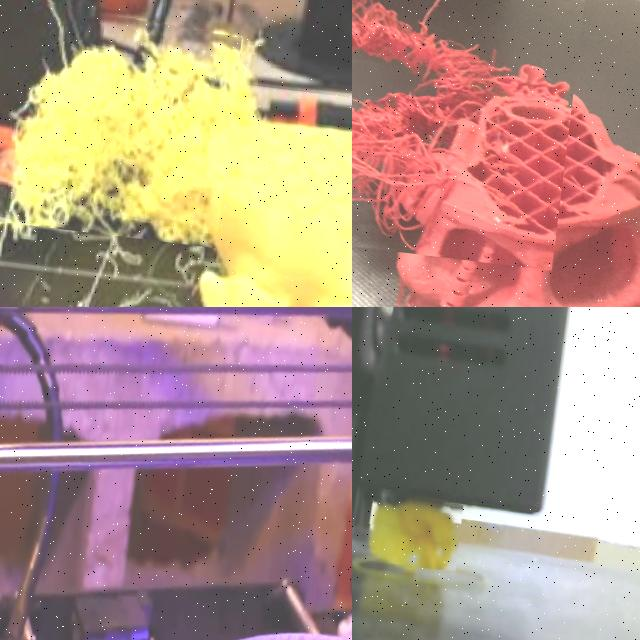spaghetti: (352, 0, 592, 270), (0, 0, 243, 248), (356, 488, 464, 572)
